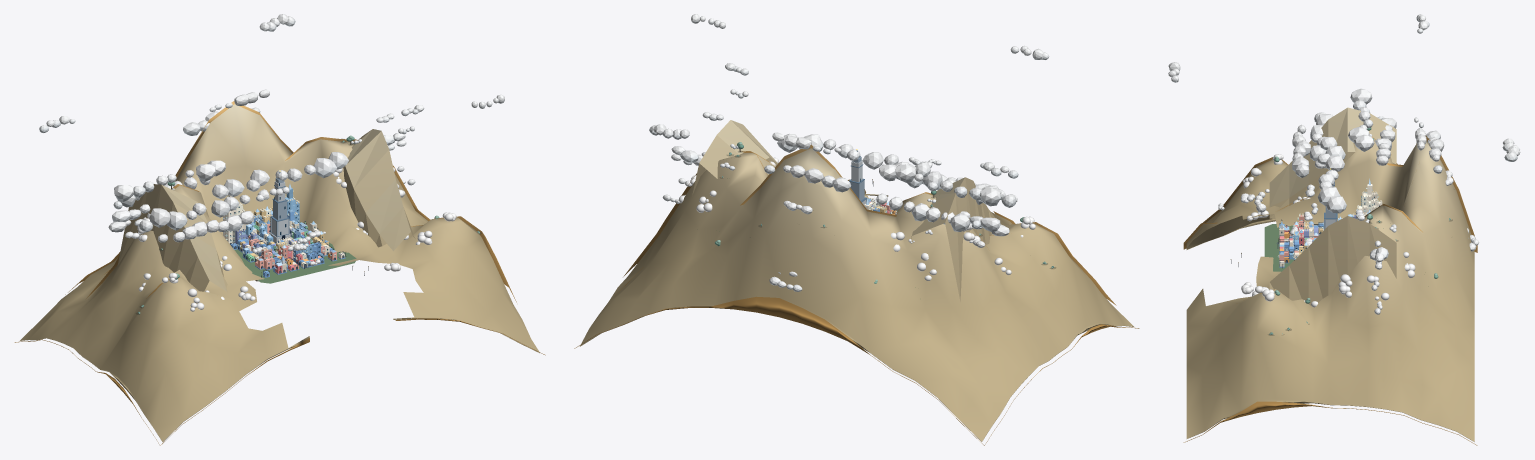
The model's file is candidate.glb.
The picture shows the model from 3 angles, left to right: view 1: azimuth 30°, elevation 25°; view 2: azimuth 150°, elevation 25°; view 3: azimuth 270°, elevation 25°; orthographic projection. The views are drawn at different scales.
Parts seen in each view (by area): view 1: citadel-oskar-grid-mountain-surface, highland-ravine-wall-east, highland-ravine-wall-west, backlit-highlight-citadel-oskar-grid-mountain-surface, highland-hero-cloud-blob-cap, highland-hero-cloud-blob-windward:3, highland-hero-cloud-blob-windward:0, highland-hero-cloud-blob-windward:2, highland-town-foundation-platform, town-terrace-0-level-2, town-terrace-0-level-1, town-terrace-0-level-3 (+1 smaller); view 2: citadel-oskar-grid-mountain-surface, backlit-highlight-citadel-oskar-grid-mountain-surface, highland-ravine-wall-west, highland-ravine-wall-east, highland-hero-cloud-blob-windward:0, highland-hero-cloud-blob-cap, highland-hero-cloud-blob-windward:1, highland-hero-cloud-blob-ridge:0:3, highland-hero-cloud-blob-windward:3; view 3: citadel-oskar-grid-mountain-surface, highland-ravine-wall-east, highland-ravine-wall-west, backlit-highlight-citadel-oskar-grid-mountain-surface, highland-hero-cloud-blob-cap, highland-hero-cloud-blob-windward:0, highland-hero-cloud-blob-windward:2, highland-town-foundation-platform, highland-hero-cloud-blob-windward:1, highland-hero-cloud-blob-windward:3, highland-hero-cloud-blob-ridge:0:3, town-terrace-0-level-3 (+3 smaller).
Part boxes in pixels (x1=…): citadel-oskar-grid-mountain-surface: x1=20, y1=104, x2=539, y2=441; highland-ravine-wall-east: x1=343, y1=129, x2=415, y2=251; highland-ravine-wall-west: x1=117, y1=184, x2=227, y2=291; backlit-highlight-citadel-oskar-grid-mountain-surface: x1=14, y1=101, x2=545, y2=445; highland-hero-cloud-blob-cap: x1=212, y1=152, x2=348, y2=198; highland-hero-cloud-blob-windward:3: x1=139, y1=194, x2=250, y2=232; highland-hero-cloud-blob-windward:0: x1=114, y1=160, x2=225, y2=201; highland-hero-cloud-blob-windward:2: x1=158, y1=211, x2=253, y2=242; highland-town-foundation-platform: x1=234, y1=222, x2=356, y2=283; town-terrace-0-level-2: x1=226, y1=215, x2=324, y2=259; town-terrace-0-level-1: x1=223, y1=220, x2=336, y2=270; town-terrace-0-level-3: x1=226, y1=208, x2=324, y2=255; citadel-oskar-grid-mountain-surface: x1=579, y1=148, x2=1133, y2=441; backlit-highlight-citadel-oskar-grid-mountain-surface: x1=574, y1=144, x2=1139, y2=445; highland-ravine-wall-west: x1=911, y1=177, x2=994, y2=301; highland-ravine-wall-east: x1=692, y1=120, x2=777, y2=194; highland-hero-cloud-blob-windward:0: x1=879, y1=164, x2=1001, y2=206; highland-hero-cloud-blob-cap: x1=777, y1=133, x2=930, y2=180; highland-hero-cloud-blob-windward:1: x1=876, y1=193, x2=980, y2=231; highland-hero-cloud-blob-ridge:0:3: x1=764, y1=165, x2=851, y2=192; highland-hero-cloud-blob-windward:3: x1=907, y1=171, x2=1016, y2=207; citadel-oskar-grid-mountain-surface: x1=1186, y1=141, x2=1474, y2=441; highland-ravine-wall-east: x1=1269, y1=216, x2=1396, y2=306; highland-ravine-wall-west: x1=1269, y1=107, x2=1396, y2=218; backlit-highlight-citadel-oskar-grid-mountain-surface: x1=1183, y1=135, x2=1477, y2=445; highland-hero-cloud-blob-cap: x1=1317, y1=137, x2=1346, y2=213; highland-hero-cloud-blob-windward:0: x1=1348, y1=88, x2=1374, y2=151; highland-hero-cloud-blob-windward:2: x1=1292, y1=124, x2=1311, y2=177; highland-town-foundation-platform: x1=1264, y1=224, x2=1293, y2=271; highland-hero-cloud-blob-windward:1: x1=1374, y1=116, x2=1396, y2=165; highland-hero-cloud-blob-windward:3: x1=1309, y1=112, x2=1333, y2=168; highland-hero-cloud-blob-ridge:0:3: x1=1426, y1=130, x2=1444, y2=173; town-terrace-0-level-3: x1=1292, y1=213, x2=1356, y2=250.
Size of the model in its own units: 185 by 113 by 144.
Materials: 115 (78 with a texture image).
